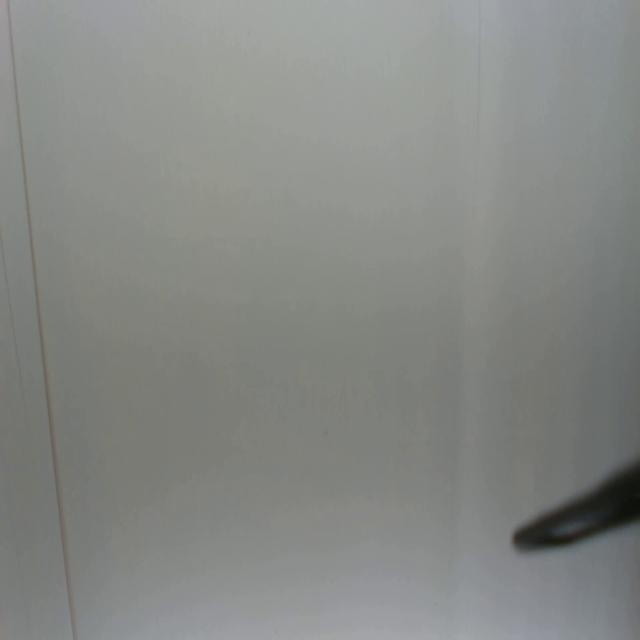crease: (7, 0, 77, 640), (0, 242, 26, 406), (472, 0, 484, 156)
